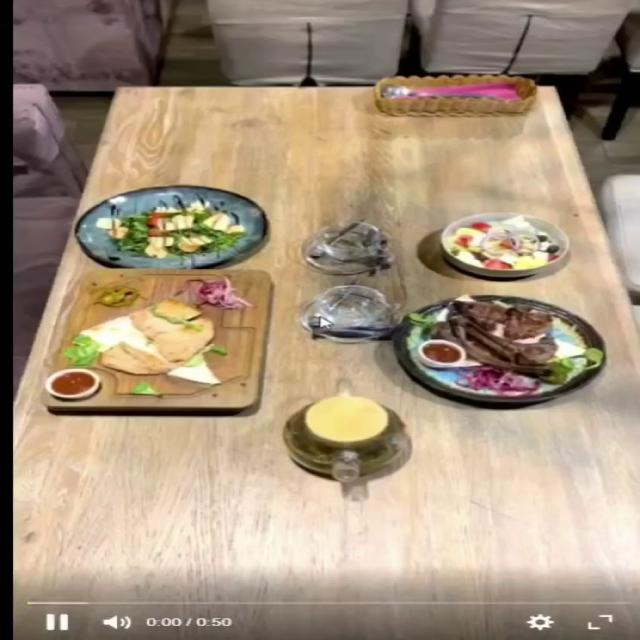meat: (390, 294, 606, 403)
salat: (73, 185, 266, 268), (438, 211, 571, 276)
tea: (282, 397, 407, 479)
